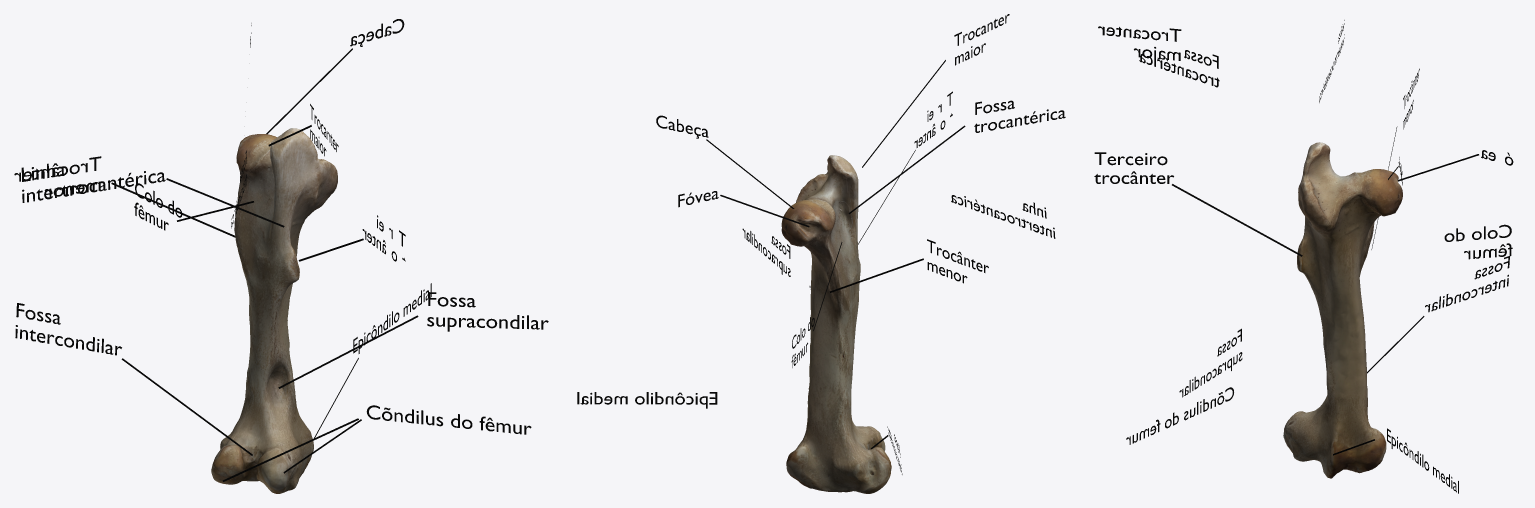
File: femurDireito-versãoPreta.glb
3 renders of one model, left to right at view 1: azimuth 30°, elevation 25°; view 2: azimuth 150°, elevation 25°; view 3: azimuth 270°, elevation 25°, orthographic. The views are drawn at different scales.
Parts seen in each view (by area): view 1: Mesh_0, Texto.017, Texto.005, Texto.004, Texto.016, Texto.011; view 2: Mesh_0, Texto.020, Texto.009, Texto.017; view 3: Mesh_0, Texto.001, Texto.007, Texto.016, Texto.009, Texto.004, Texto.003, Texto.005, Texto.020.
Part boxes in pixels (x1,y1,x2,y2): Mesh_0: (211,128,337,493); Texto.017: (21,163,165,202); Texto.005: (427,292,548,331); Texto.004: (366,405,531,434); Texto.016: (15,303,121,355); Texto.011: (14,156,101,196); Mesh_0: (781,155,891,493); Texto.020: (577,392,717,408); Texto.009: (974,100,1065,132); Texto.017: (951,195,1055,238); Mesh_0: (1283,142,1402,478); Texto.001: (1094,152,1173,183); Texto.007: (1098,26,1181,60); Texto.016: (1425,256,1509,312); Texto.009: (1139,50,1219,87); Texto.004: (1126,387,1233,444); Texto.003: (1444,224,1512,259); Texto.005: (1179,328,1242,397); Texto.020: (1387,428,1458,493).
Bounding box in the file's own units: 2.63 × 2.42 × 2.22.
2 materials, 1 textured.
